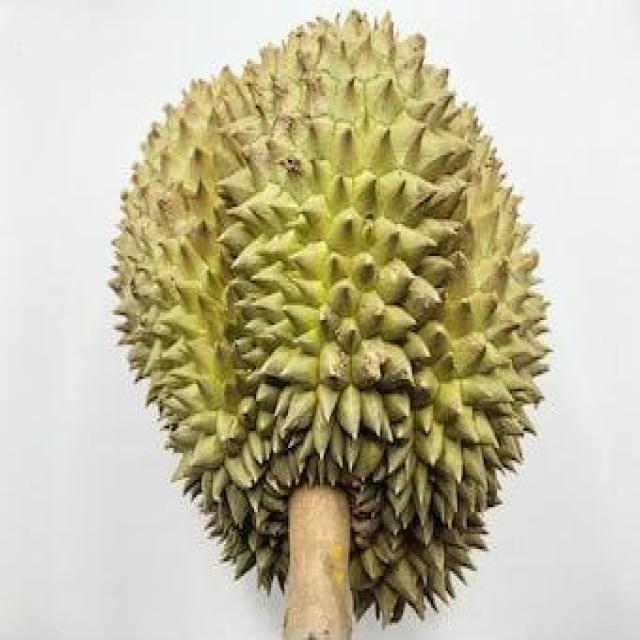immature: (88, 12, 553, 630)
